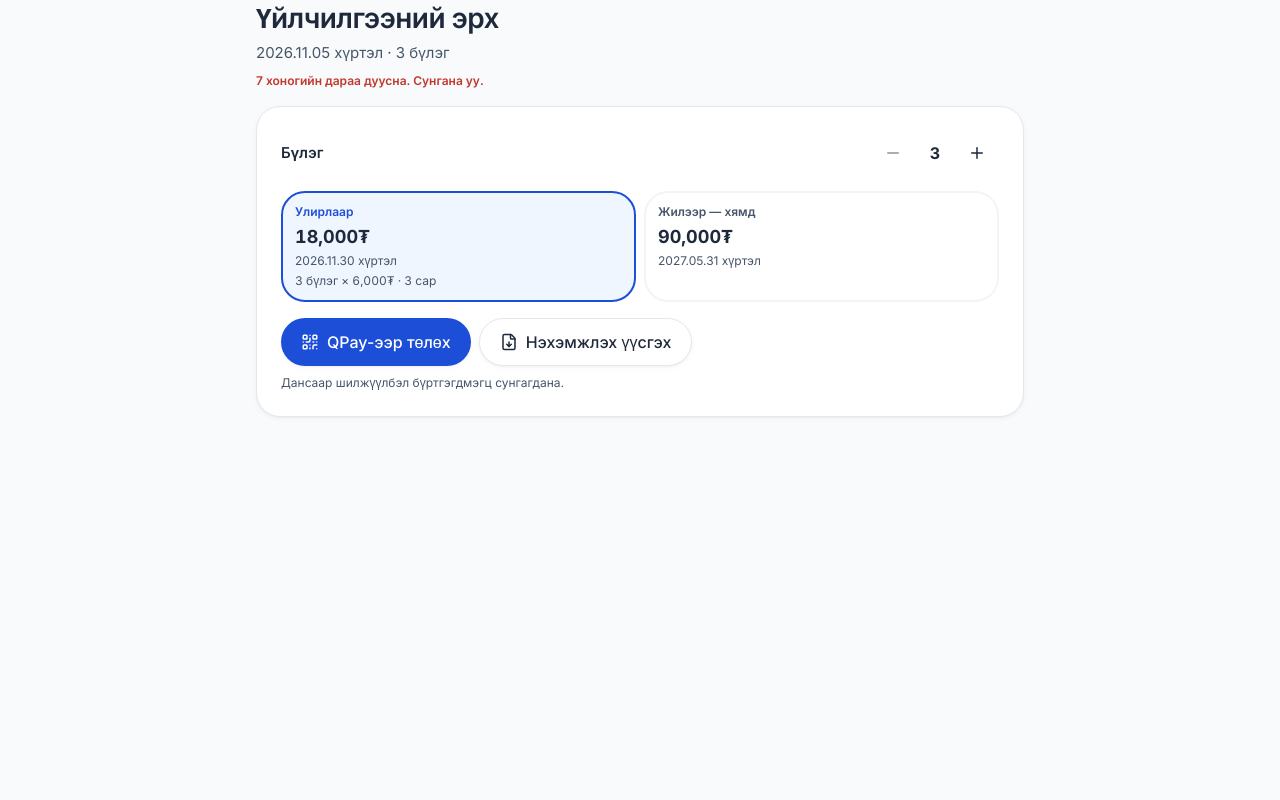
Test case: the director's «Үйлчилгээний эрх» › renews by QPay, saying first until when
This screenshot has width=1280, height=800.
Click the radio button labelled "Жилээр — хямд" at {"x": 707, "y": 212}, box [644, 191, 999, 302]
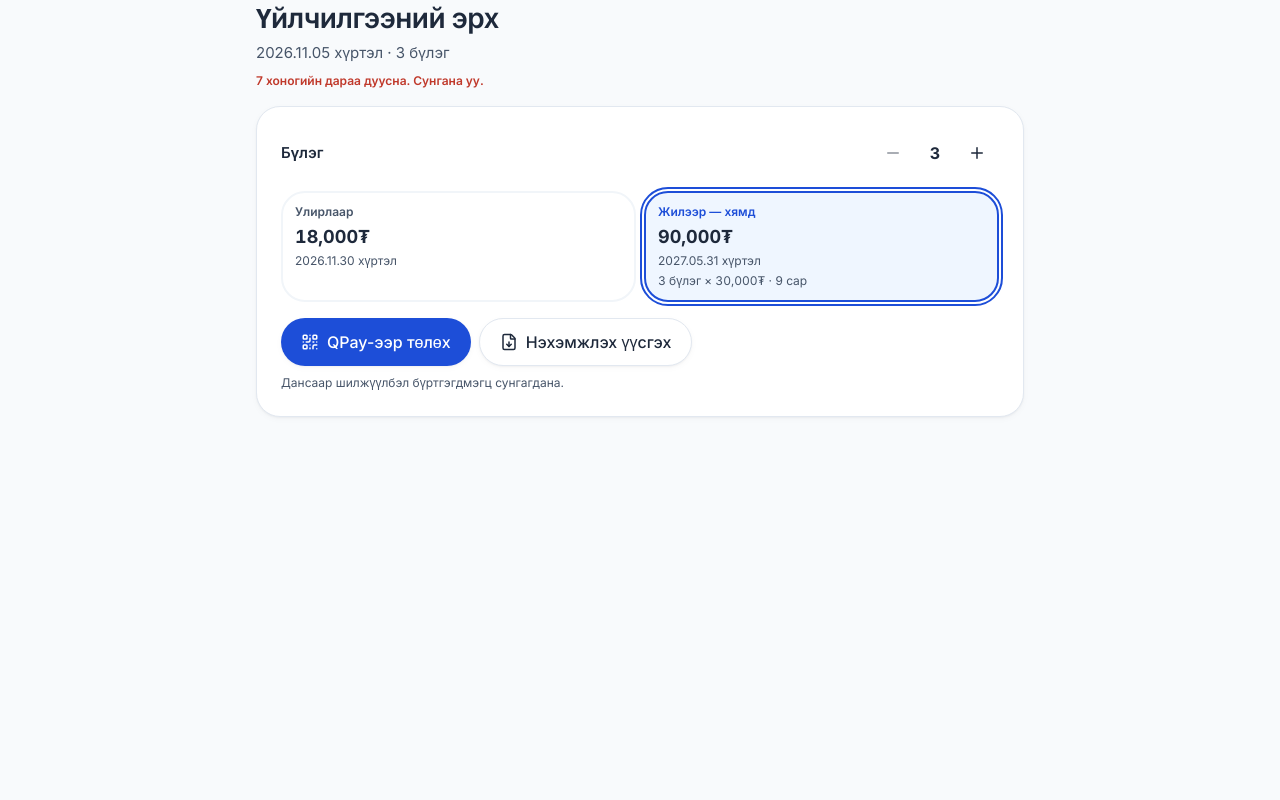
Click the button "QPay-ээр төлөх" at {"x": 376, "y": 342}, box [281, 318, 471, 366]
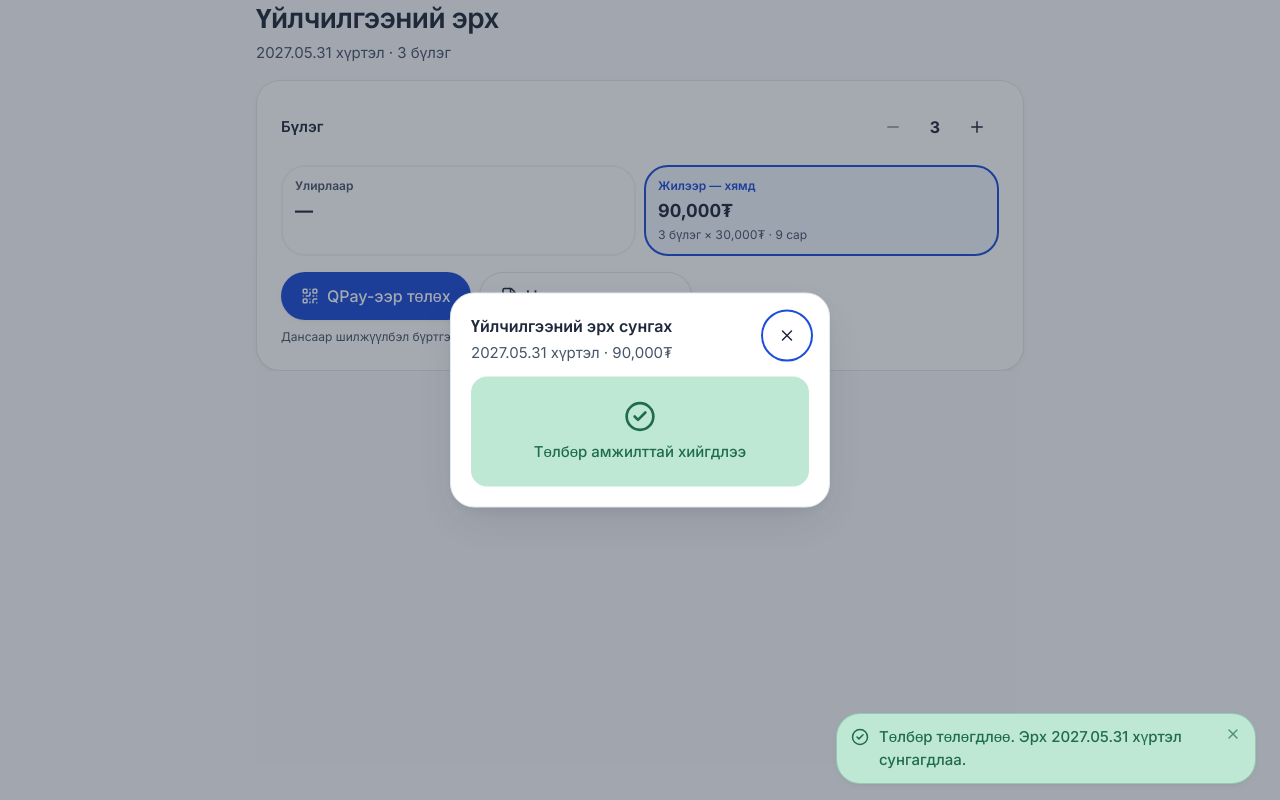
Expected: the text "Төлбөр амжилттай хийгдлээ" is shown, [534, 440, 746, 462]
